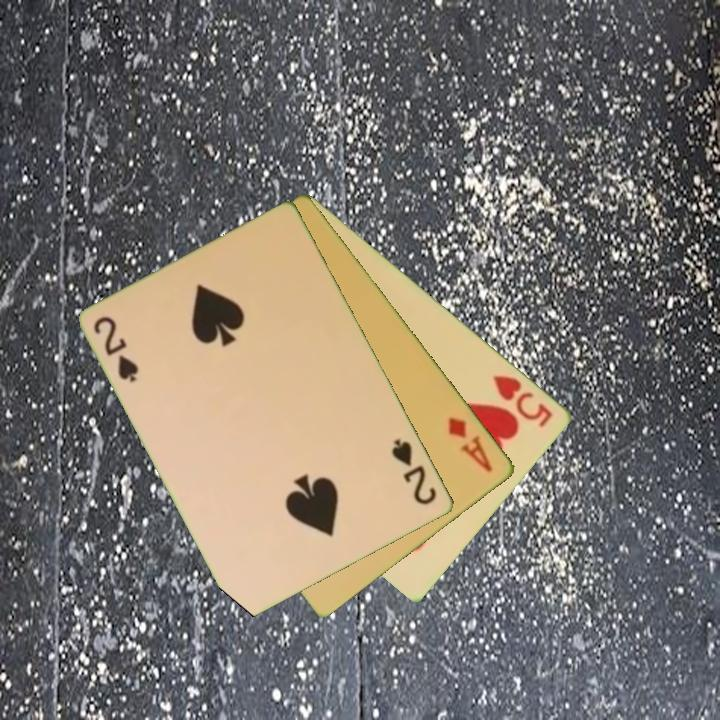2s: (90, 312, 143, 386), (388, 436, 440, 509)
5h: (489, 371, 556, 431)
Ad: (445, 413, 497, 475)
